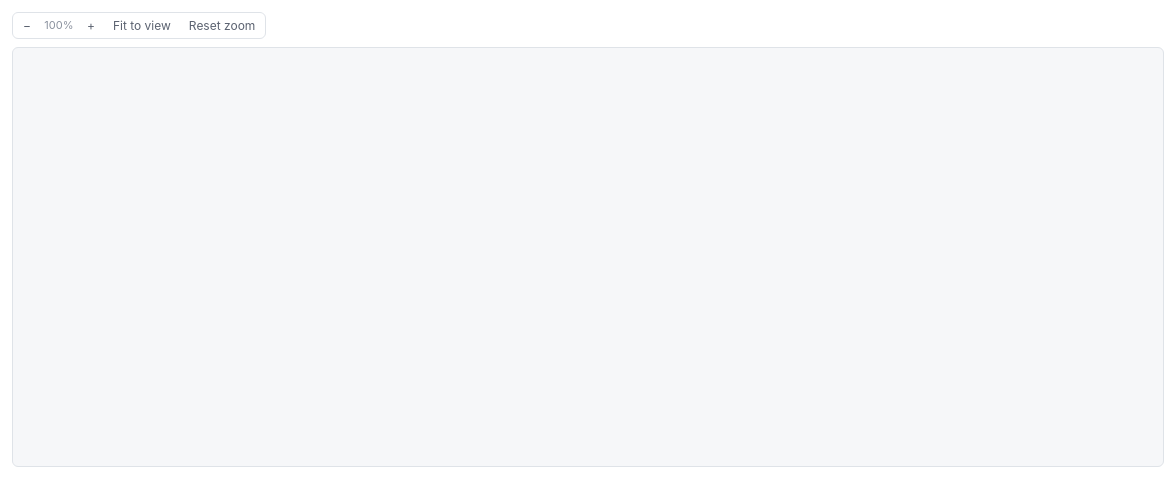
MermaidBlock › resets zoom back to 100%
Click the button named "Zoom in" at (91, 26), box x1=79 y1=15 x2=103 y2=36
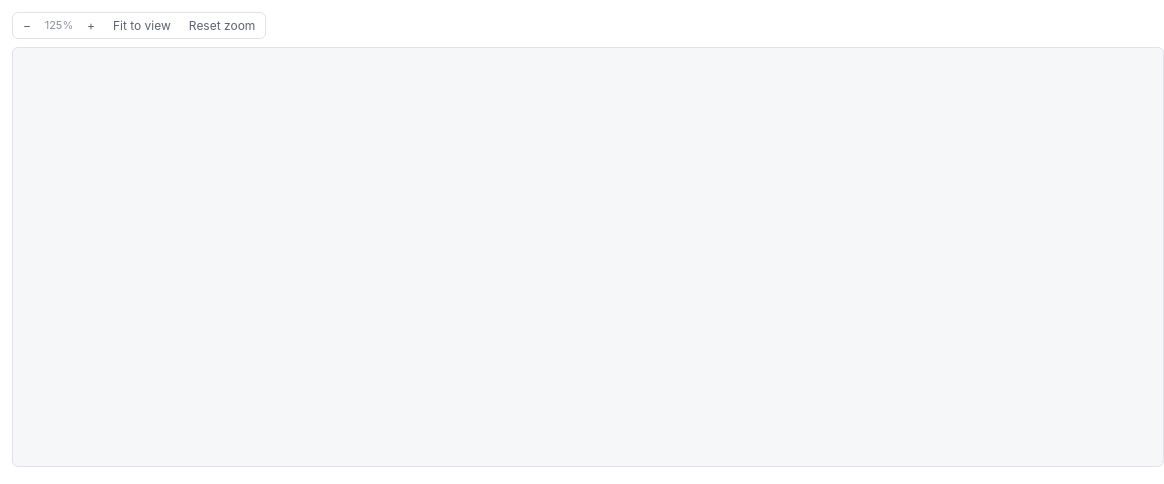
Click the button "Reset zoom" at (222, 26), box x1=181 y1=15 x2=263 y2=36
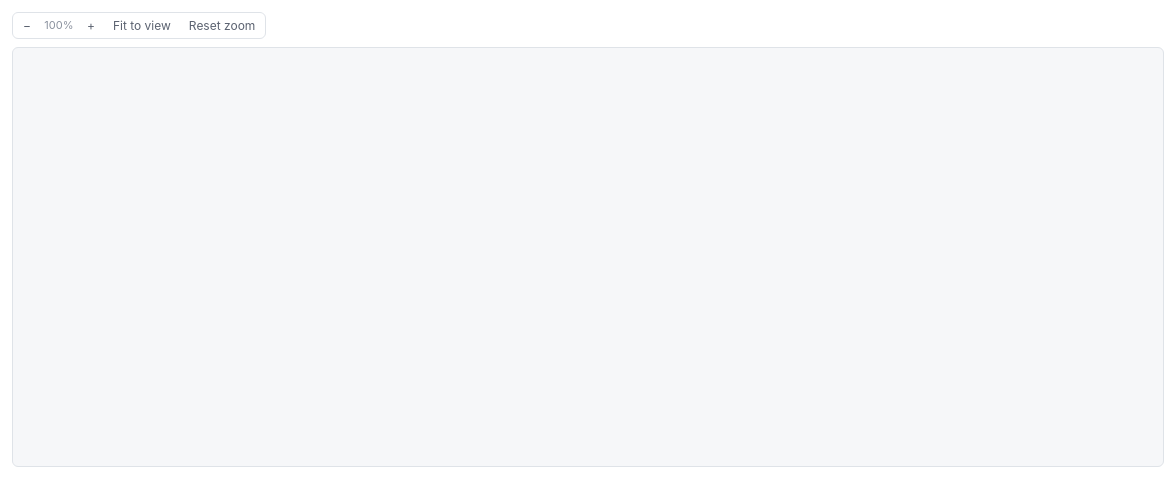
Expected: the text "100%" is shown, x1=44 y1=18 x2=74 y2=32
